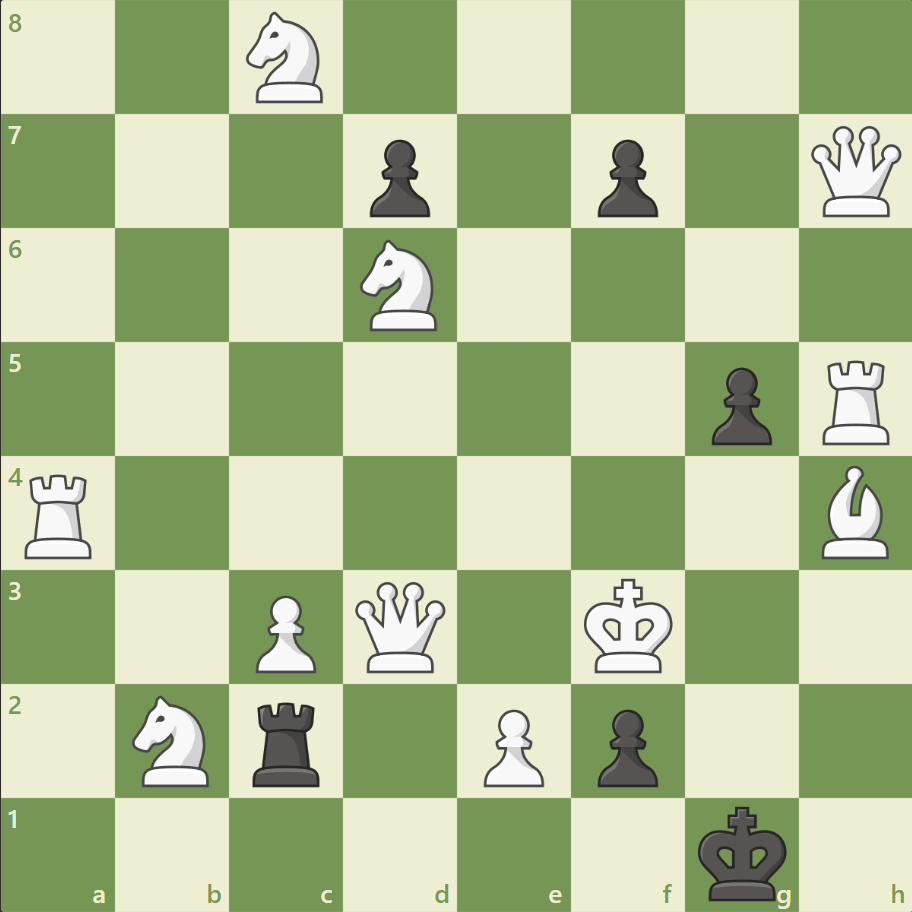B: (812, 460, 896, 563)
K: (579, 571, 679, 679)
N: (351, 234, 449, 337), (124, 688, 222, 791), (238, 7, 335, 110)
P: (247, 586, 322, 677), (474, 700, 549, 791)
Q: (805, 122, 904, 222), (351, 576, 450, 676)
R: (814, 352, 897, 449), (19, 466, 102, 563)
k: (692, 798, 792, 906)
p: (701, 359, 776, 450), (361, 132, 435, 223), (588, 132, 662, 223), (588, 700, 662, 791)
r: (246, 693, 329, 790)
